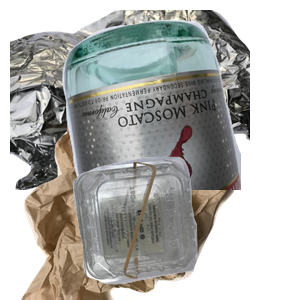glass: (60, 17, 300, 197)
metal: (10, 10, 250, 190)
plastic: (71, 154, 300, 300)
trash: (19, 120, 249, 300)
